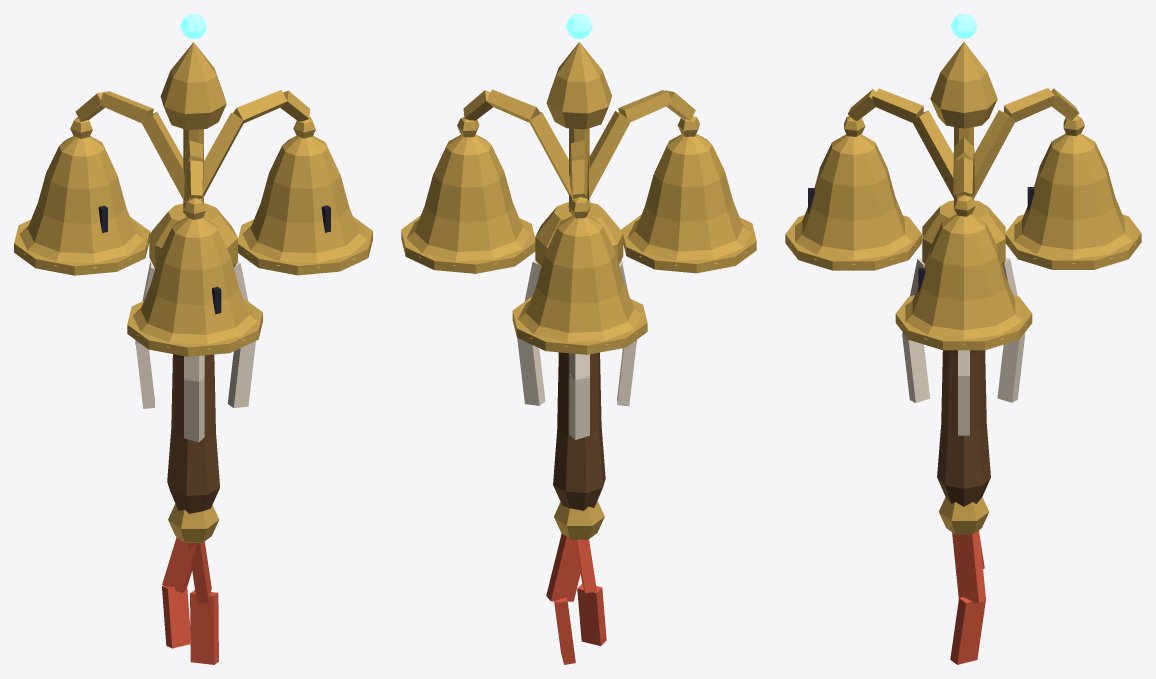
The model's file is weapon_yoryeong.glb.
The picture shows the model from 3 angles, left to right: view 1: azimuth 30°, elevation 25°; view 2: azimuth 150°, elevation 25°; view 3: azimuth 270°, elevation 25°; orthographic projection.
Parts seen in each view (by area): view 1: weapon_yoryeong; view 2: weapon_yoryeong; view 3: weapon_yoryeong.
Part boxes in pixels (box(x1,y1,x2,y2)): weapon_yoryeong: box(14, 14, 372, 664); weapon_yoryeong: box(401, 14, 756, 664); weapon_yoryeong: box(785, 14, 1141, 664).
Size of the model in its own units: 0.3817 by 0.8394 by 0.4222.
